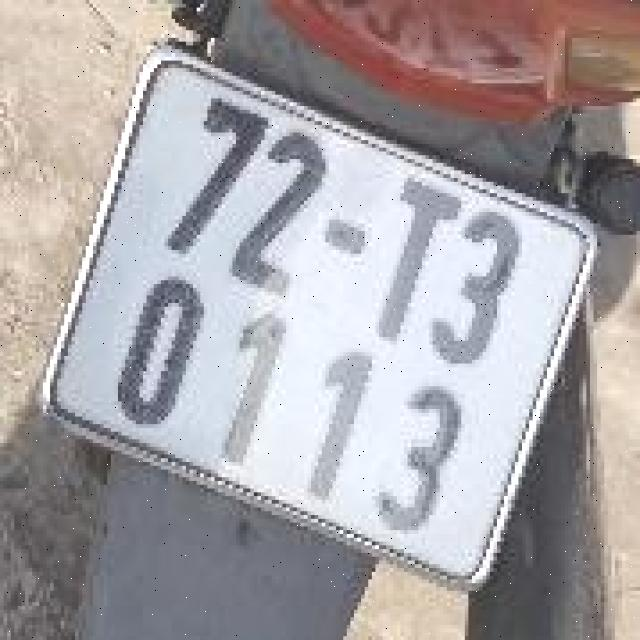0: (116, 278, 195, 426)
1: (203, 288, 290, 485), (290, 332, 376, 524)
2: (232, 99, 332, 318)
3: (377, 371, 467, 564), (425, 197, 515, 390)
7: (155, 85, 270, 290)
T: (363, 150, 456, 362)
